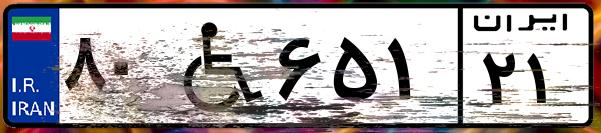0: (110, 28, 158, 98)
1: (385, 28, 445, 110), (525, 38, 570, 115)
2: (475, 38, 525, 113)
5: (330, 28, 385, 110)
6: (270, 28, 330, 110)
8: (57, 26, 110, 100)
ژ (معلولین و جانبازان): (158, 12, 270, 120)
